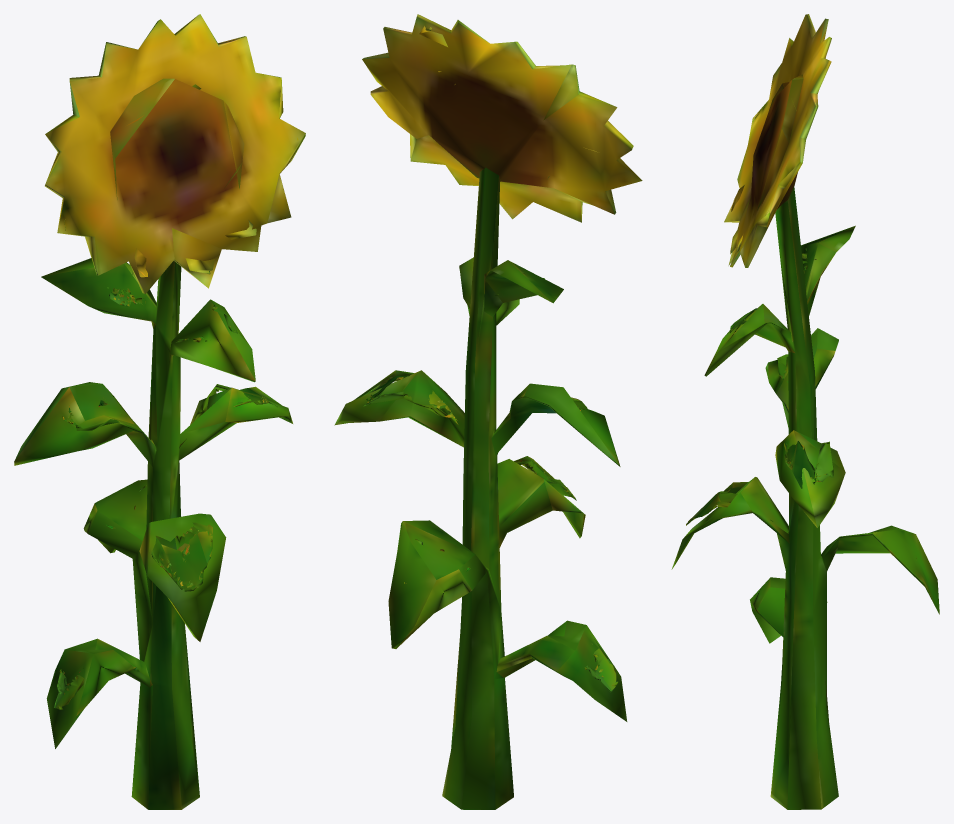
The model's file is sunflower_large.glb.
The picture shows the model from 3 angles, left to right: view 1: azimuth 30°, elevation 25°; view 2: azimuth 150°, elevation 25°; view 3: azimuth 270°, elevation 25°; orthographic projection. The views are drawn at different scales.
Bounding box in the file's own units: 0.3789 × 0.9954 × 0.3165.
1 material, 1 textured.
